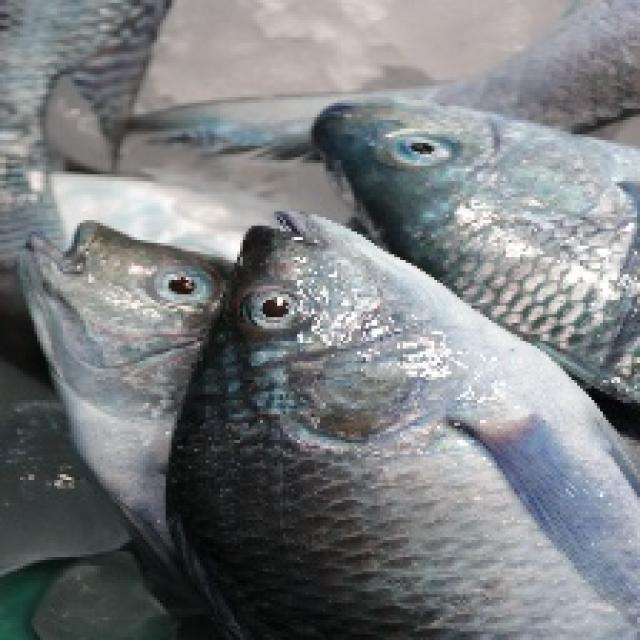Fresh: (208, 184, 566, 640), (294, 60, 640, 320), (0, 191, 278, 500)
